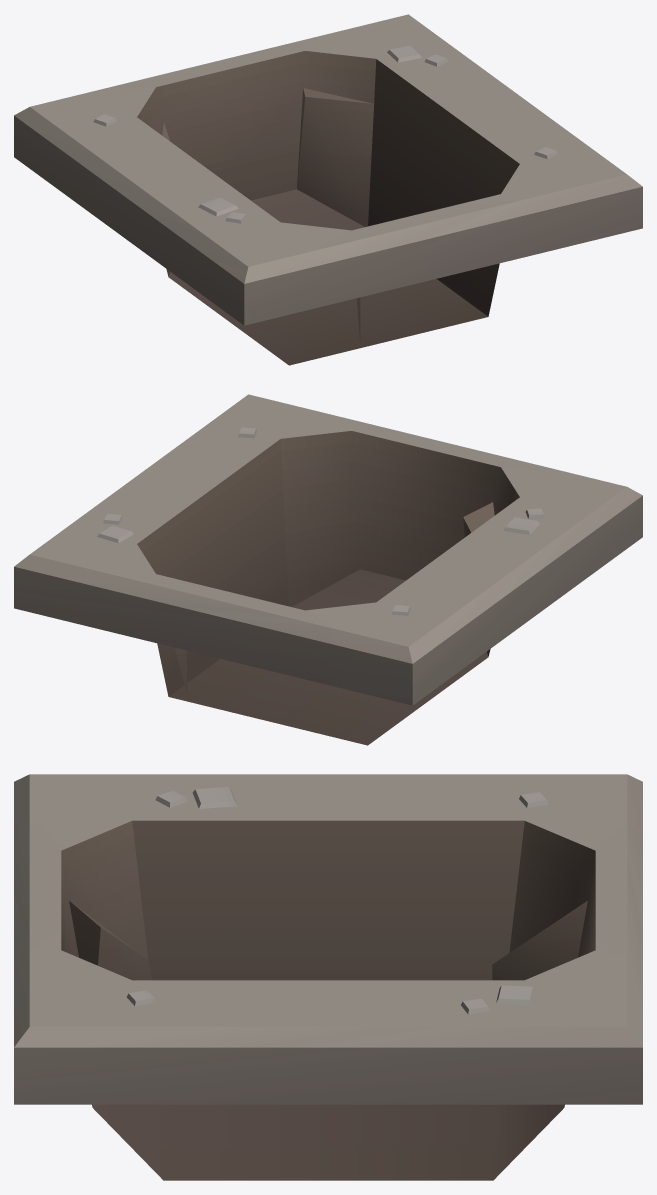
The model's file is floor_dirt_grave.glb.
3 views of the same model, one above another, from view 1: azimuth 30°, elevation 25°; view 2: azimuth 150°, elevation 25°; view 3: azimuth 270°, elevation 25° (orthographic). The views are drawn at different scales.
Parts seen in each view (by area): view 1: floor_dirt_grave; view 2: floor_dirt_grave; view 3: floor_dirt_grave.
Boxes of the visible parts, x1,y1,x2,y2 form: floor_dirt_grave: [14, 14, 642, 365]; floor_dirt_grave: [14, 394, 642, 745]; floor_dirt_grave: [14, 774, 642, 1180].
Bounding box in the file's own units: 4 × 1.53 × 4.
1 material, 1 textured.
